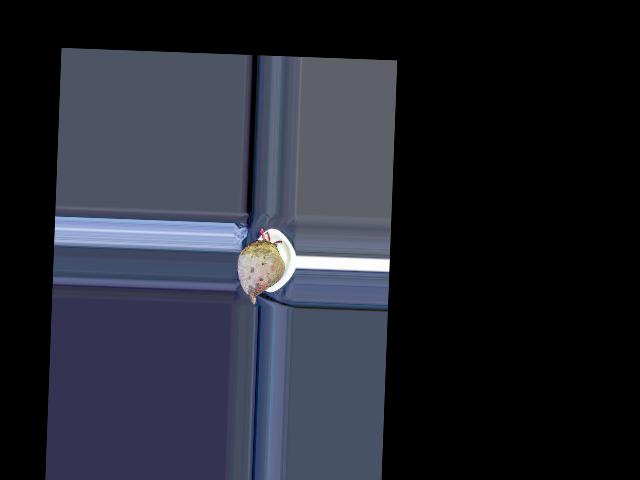beet: (237, 227, 286, 304)
